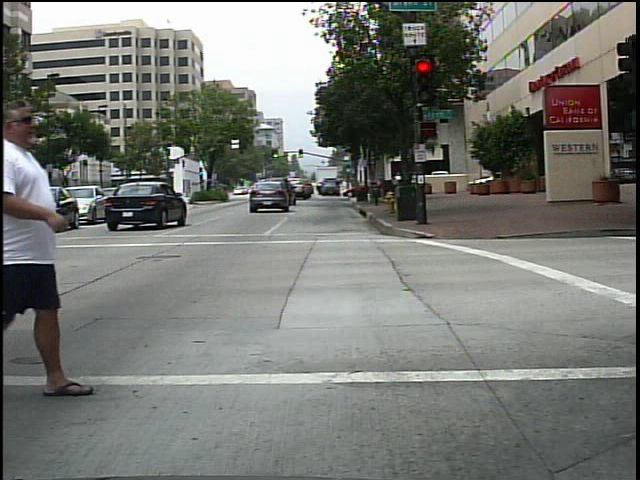person: (3, 91, 104, 398)
